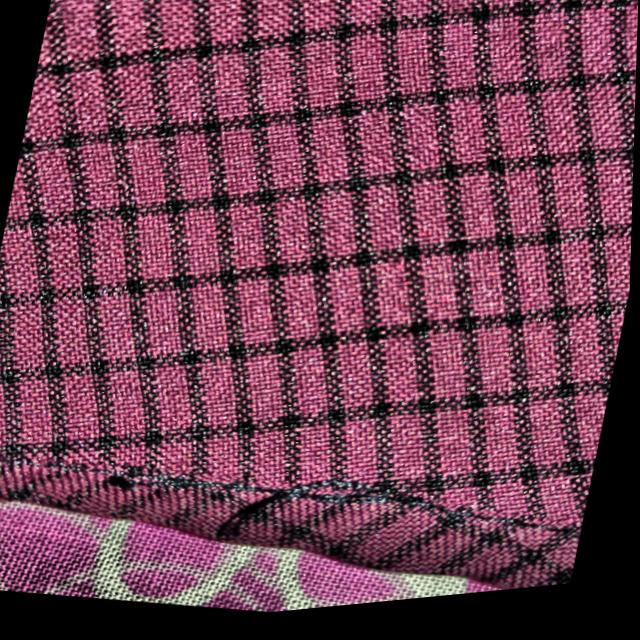Stitch: (81, 371, 586, 618)
